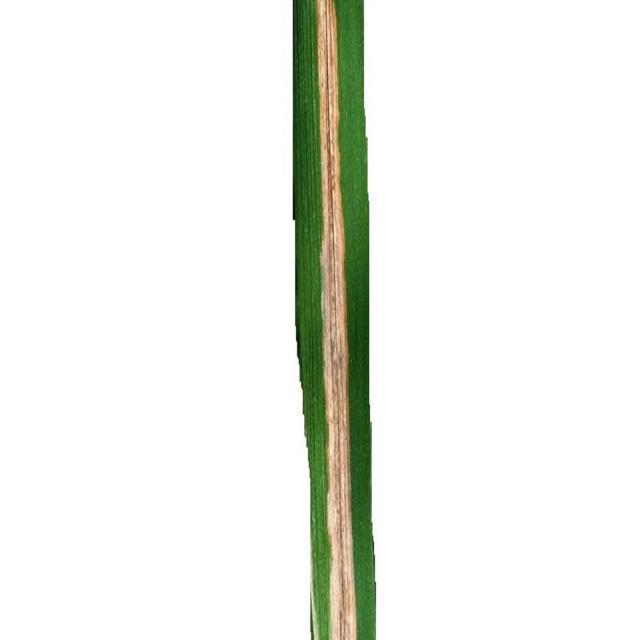Bacterial_Leaf_Blight: (295, 0, 373, 640)
